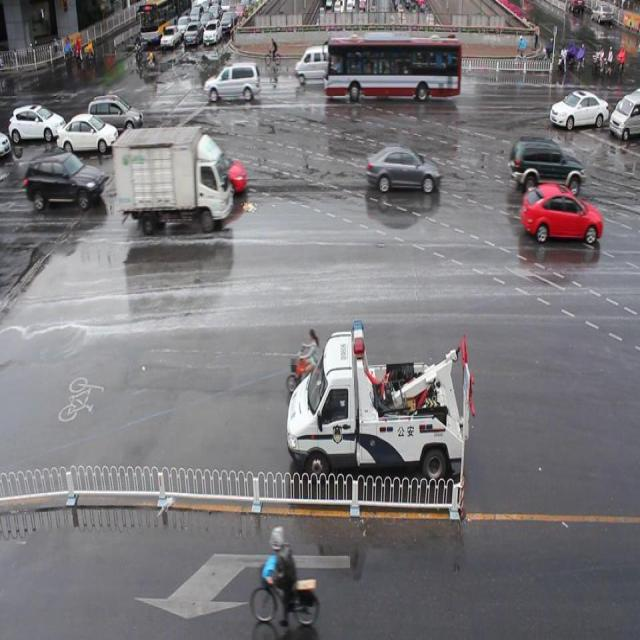bus: (115, 127, 231, 231)
car: (518, 180, 601, 245), (509, 135, 584, 194), (365, 144, 440, 197), (171, 145, 247, 195), (548, 88, 606, 128)
truck: (206, 62, 260, 104), (293, 45, 336, 82)
van: (326, 37, 460, 105)
